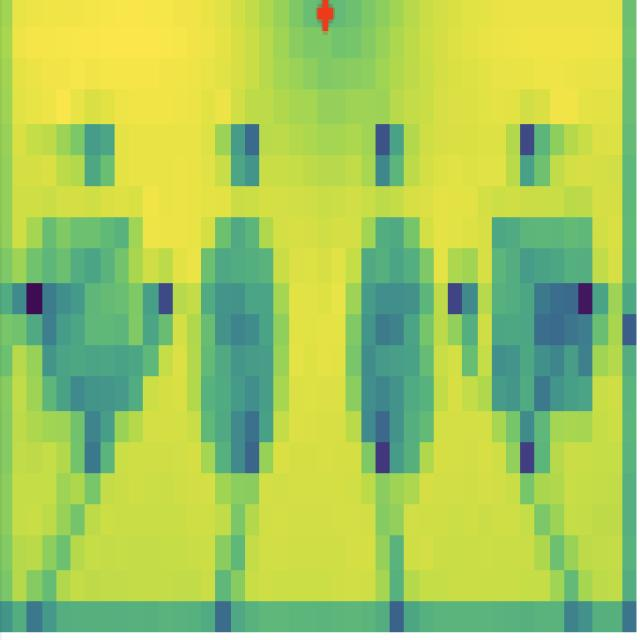Concrete: (348, 214, 434, 483)
Glass: (197, 215, 278, 498)
Metal: (493, 214, 593, 414)
Wood: (37, 215, 147, 419)
